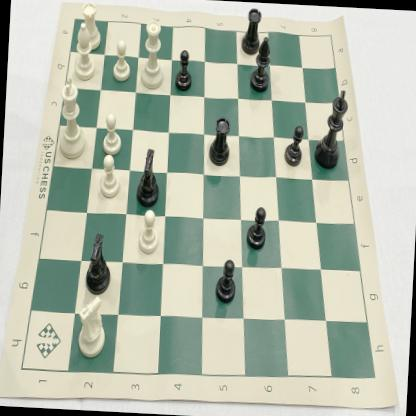bishop: (69, 22, 99, 82), (247, 34, 276, 96)
king: (311, 84, 352, 172), (53, 72, 92, 162)
knight: (71, 291, 112, 364), (80, 226, 116, 298), (132, 142, 165, 214)
pawn: (214, 252, 242, 308), (242, 200, 269, 255), (96, 151, 124, 203), (134, 207, 163, 257), (108, 35, 136, 86), (99, 108, 126, 158), (170, 47, 195, 97), (282, 119, 306, 170)
queen: (135, 15, 171, 94)
rook: (205, 112, 235, 171), (76, 0, 107, 55), (238, 2, 265, 58)
